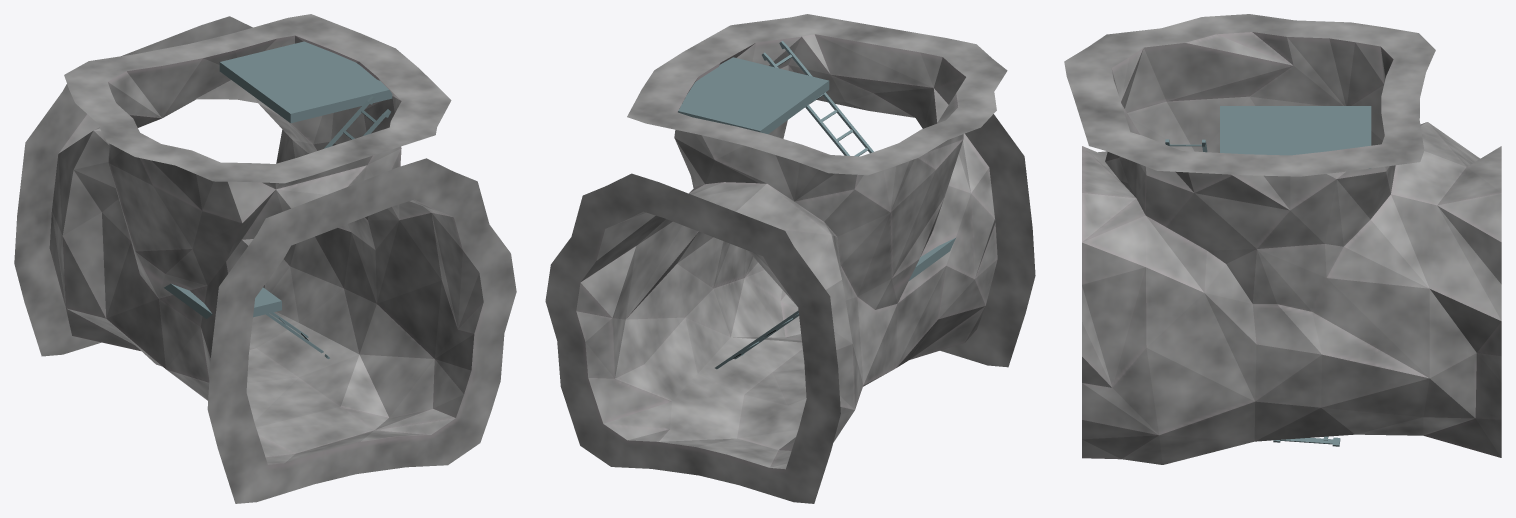
Rendered from TVertical1Connector.gltf.
3 renders of one model, left to right at view 1: azimuth 30°, elevation 25°; view 2: azimuth 150°, elevation 25°; view 3: azimuth 270°, elevation 25°, orthographic. The views are drawn at different scales.
Visible parts, largest first — view 1: TVertical1Connector; view 2: TVertical1Connector; view 3: TVertical1Connector.
Boxes of the visible parts, left/top/right/bottom form: TVertical1Connector: left=14, top=14, right=516, bottom=503; TVertical1Connector: left=545, top=14, right=1035, bottom=503; TVertical1Connector: left=1064, top=14, right=1501, bottom=464.
Size of the model in its own units: 4.86 by 4.64 by 5.21.
Materials: 3 (3 with a texture image).
